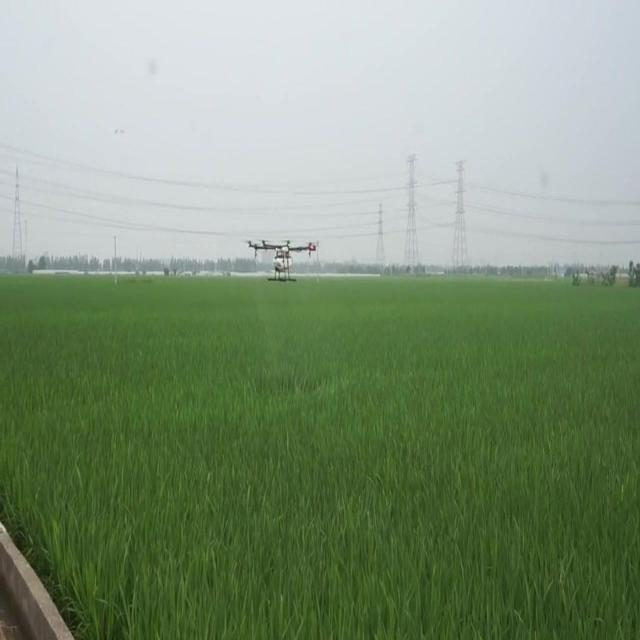drone: (244, 232, 324, 284)
